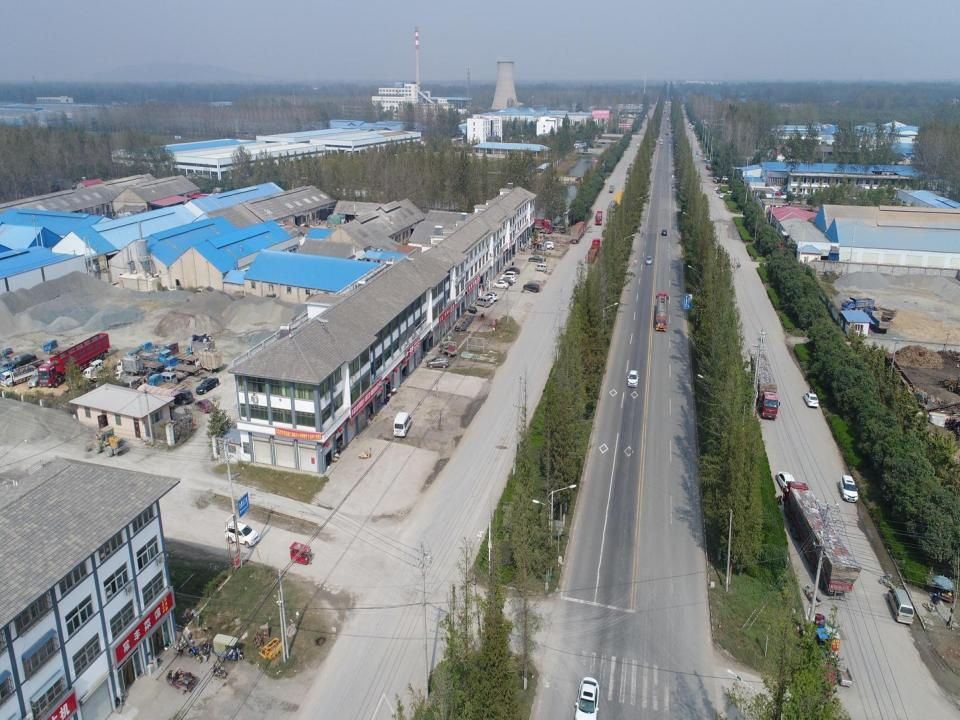bus: (688, 124, 692, 128)
car: (572, 676, 600, 720), (224, 519, 260, 548), (838, 474, 859, 504), (775, 470, 798, 494), (196, 376, 220, 396), (171, 388, 192, 408), (26, 370, 47, 389), (11, 352, 37, 366), (427, 355, 452, 369), (194, 398, 214, 414), (88, 359, 106, 375), (82, 367, 101, 382), (803, 391, 819, 408), (522, 281, 540, 293), (627, 369, 639, 387), (492, 280, 509, 290), (481, 293, 494, 304), (497, 278, 513, 286), (500, 274, 516, 282), (505, 267, 521, 275), (485, 291, 497, 301), (528, 255, 543, 263), (542, 241, 554, 251), (774, 190, 783, 198), (559, 226, 566, 234), (660, 229, 668, 236), (646, 255, 652, 264), (715, 188, 721, 194), (658, 138, 663, 145), (712, 176, 717, 182), (713, 186, 719, 191), (719, 194, 724, 198)
truck: (782, 480, 861, 602), (38, 332, 110, 388), (748, 352, 780, 421), (164, 354, 205, 380), (0, 350, 44, 374), (212, 632, 244, 664), (148, 373, 187, 398), (163, 340, 199, 366), (840, 292, 877, 317), (188, 346, 223, 372), (0, 364, 39, 386), (862, 302, 897, 326), (42, 339, 82, 359), (183, 338, 215, 361), (519, 214, 554, 234), (867, 309, 892, 333), (126, 347, 158, 364), (146, 349, 176, 367), (140, 341, 167, 359), (568, 219, 586, 245), (584, 237, 601, 264), (2, 346, 26, 363), (164, 366, 188, 380), (439, 341, 458, 358), (594, 209, 605, 228), (726, 188, 736, 195), (706, 160, 712, 171), (608, 184, 614, 193), (626, 166, 632, 174), (665, 128, 669, 135), (695, 150, 699, 154)
van: (887, 587, 914, 625), (394, 411, 414, 439), (155, 369, 178, 387), (474, 295, 491, 307), (502, 270, 517, 280), (194, 287, 206, 299), (534, 262, 548, 272), (536, 242, 547, 250), (704, 156, 706, 161)
